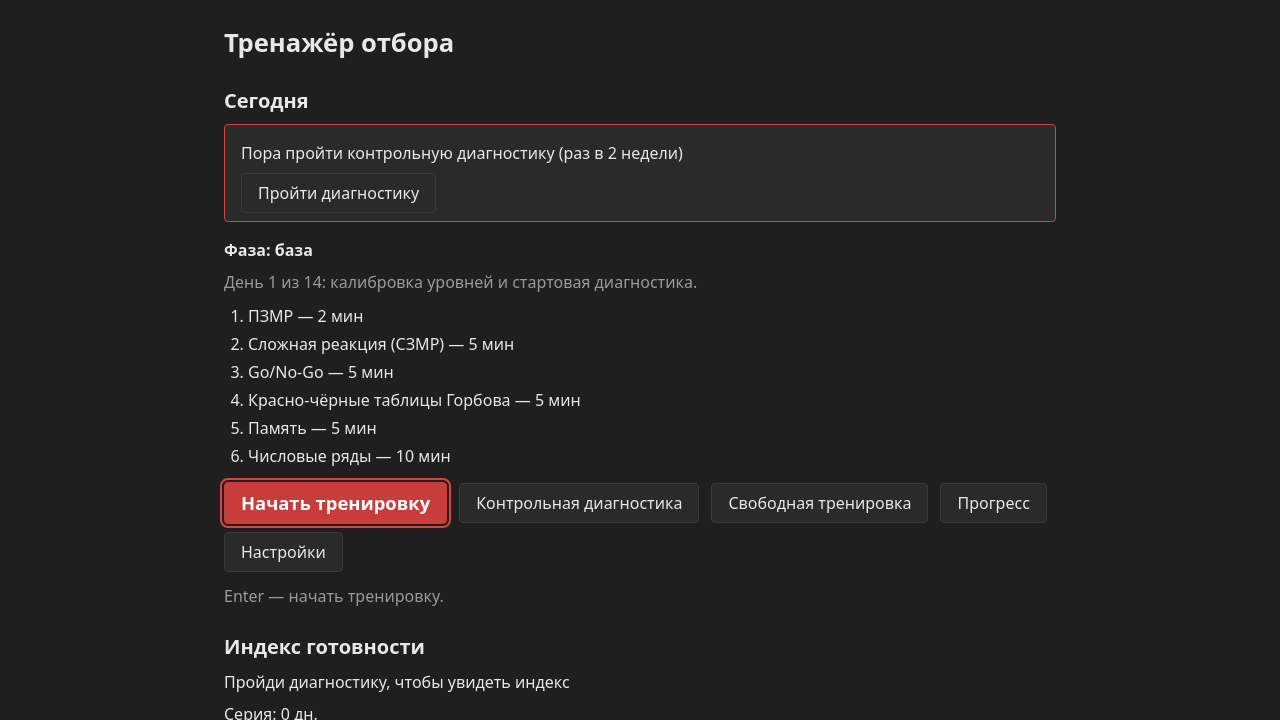
Test case: App › a module chosen in free training opens the session screen
Click the button "Свободная тренировка".
click(820, 503)  # box left=712, top=483, right=928, bottom=523
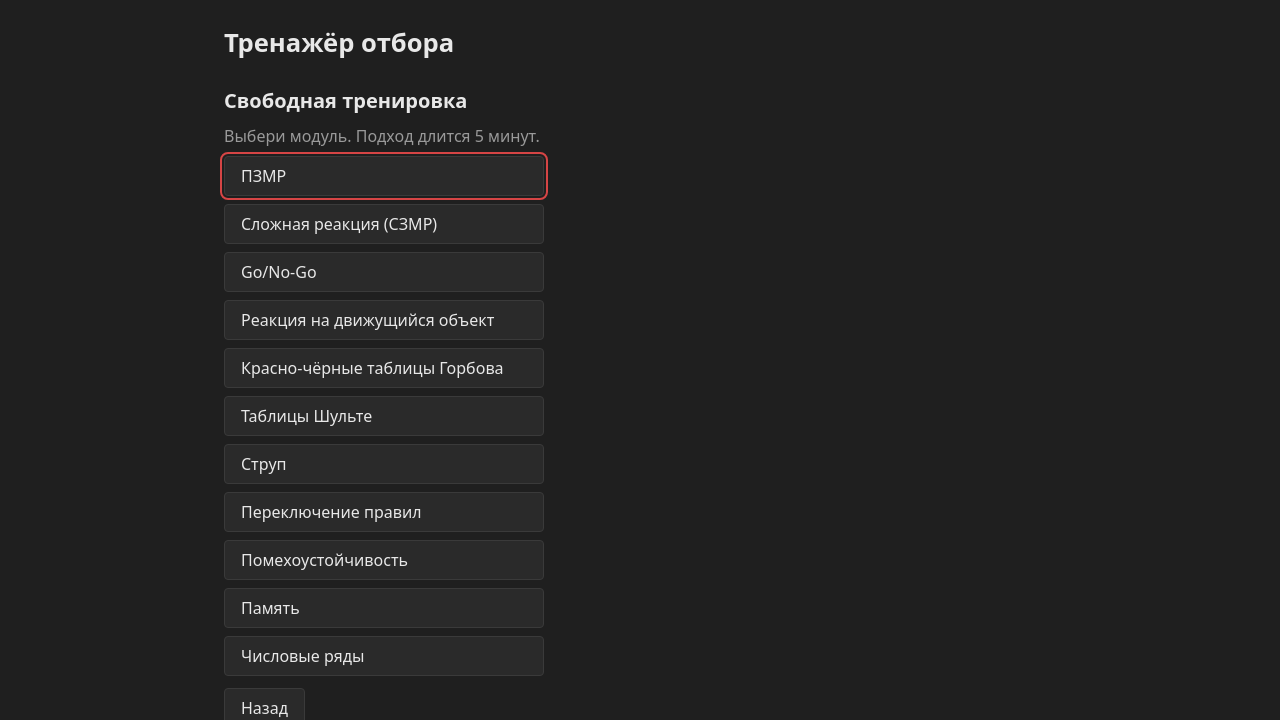
Click the button "Реакция на движущийся объект".
click(384, 320)  # box left=224, top=300, right=544, bottom=340
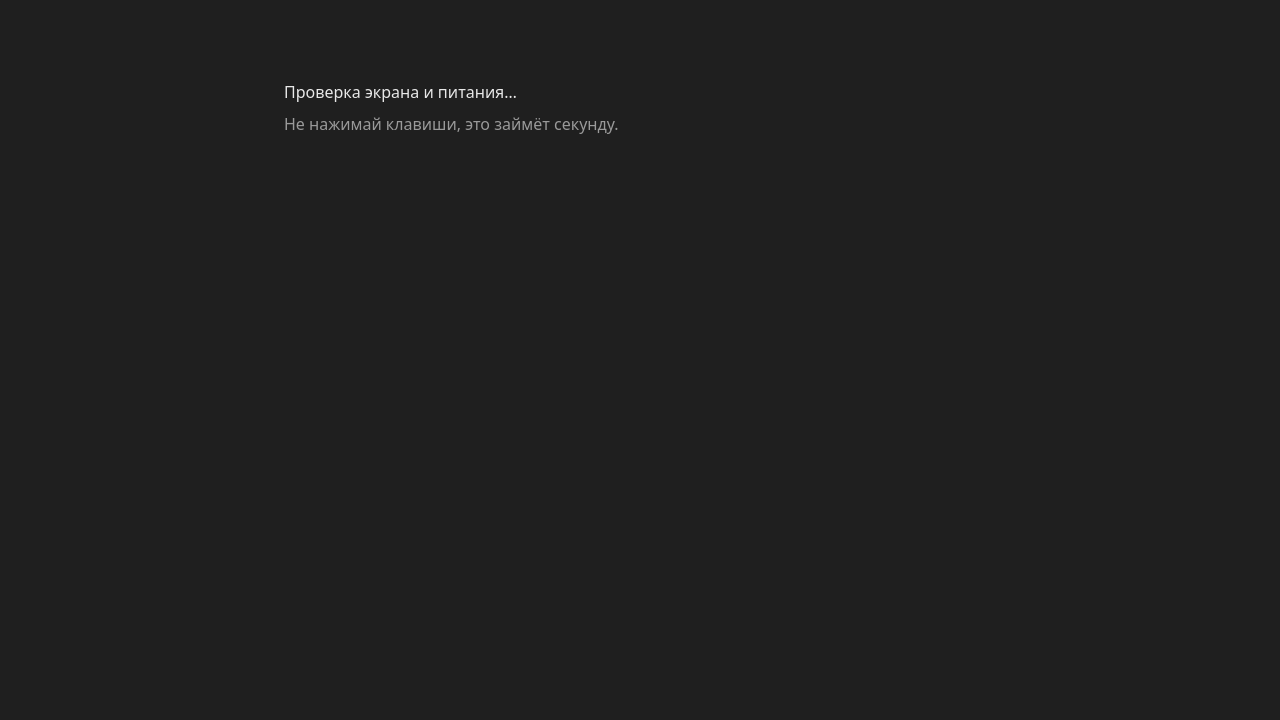
Result: the element named "Сессия" is shown
